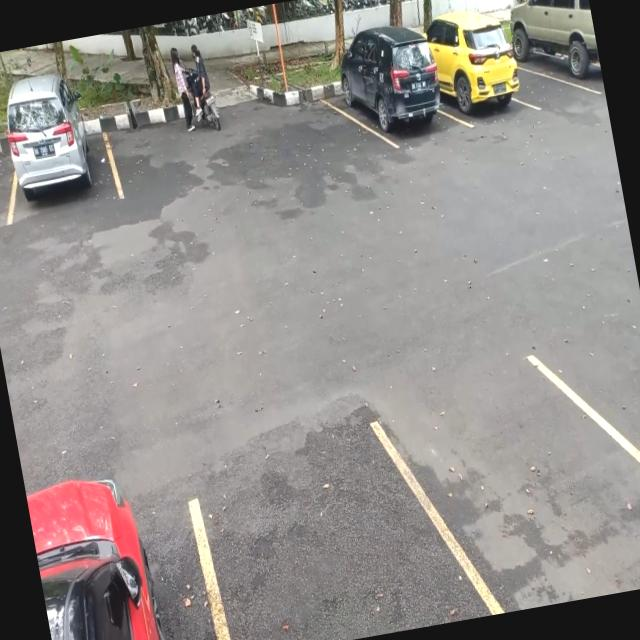car: (0, 90, 118, 219), (336, 39, 452, 151), (430, 19, 525, 130), (506, 0, 603, 101)
free: (397, 340, 640, 623), (182, 414, 469, 640), (0, 132, 21, 236)
